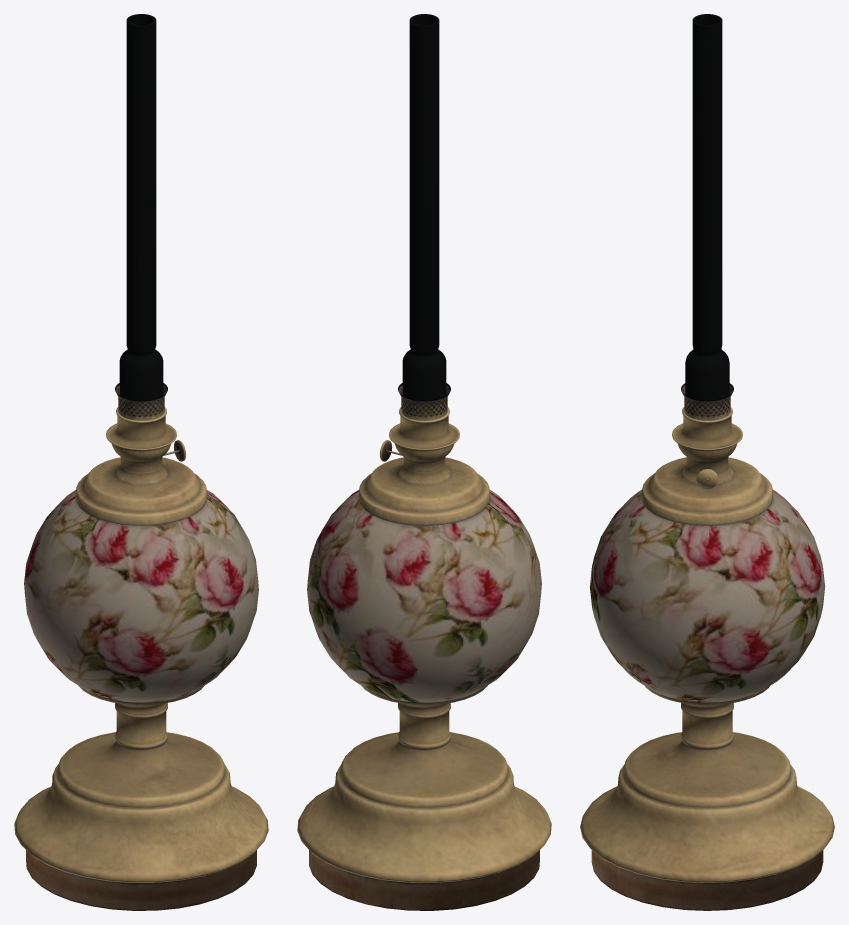
Rendered from vintage_oil_lamp_512.gltf.
3 renders of one model, left to right at view 1: azimuth 30°, elevation 25°; view 2: azimuth 150°, elevation 25°; view 3: azimuth 270°, elevation 25°, orthographic.
Parts seen in each view (by area): view 1: vintage_oil_lamp, vintage_oil_lamp_glass; view 2: vintage_oil_lamp, vintage_oil_lamp_glass; view 3: vintage_oil_lamp, vintage_oil_lamp_glass.
Boxes of the visible parts, bbox=[...] form: vintage_oil_lamp: bbox=[14, 407, 268, 910]; vintage_oil_lamp_glass: bbox=[115, 14, 167, 420]; vintage_oil_lamp: bbox=[297, 407, 551, 910]; vintage_oil_lamp_glass: bbox=[398, 14, 450, 420]; vintage_oil_lamp: bbox=[580, 407, 834, 910]; vintage_oil_lamp_glass: bbox=[681, 14, 733, 420].
Bounding box in the file's own units: 0.22 × 0.8016 × 0.22.
3 materials, 3 textured.
